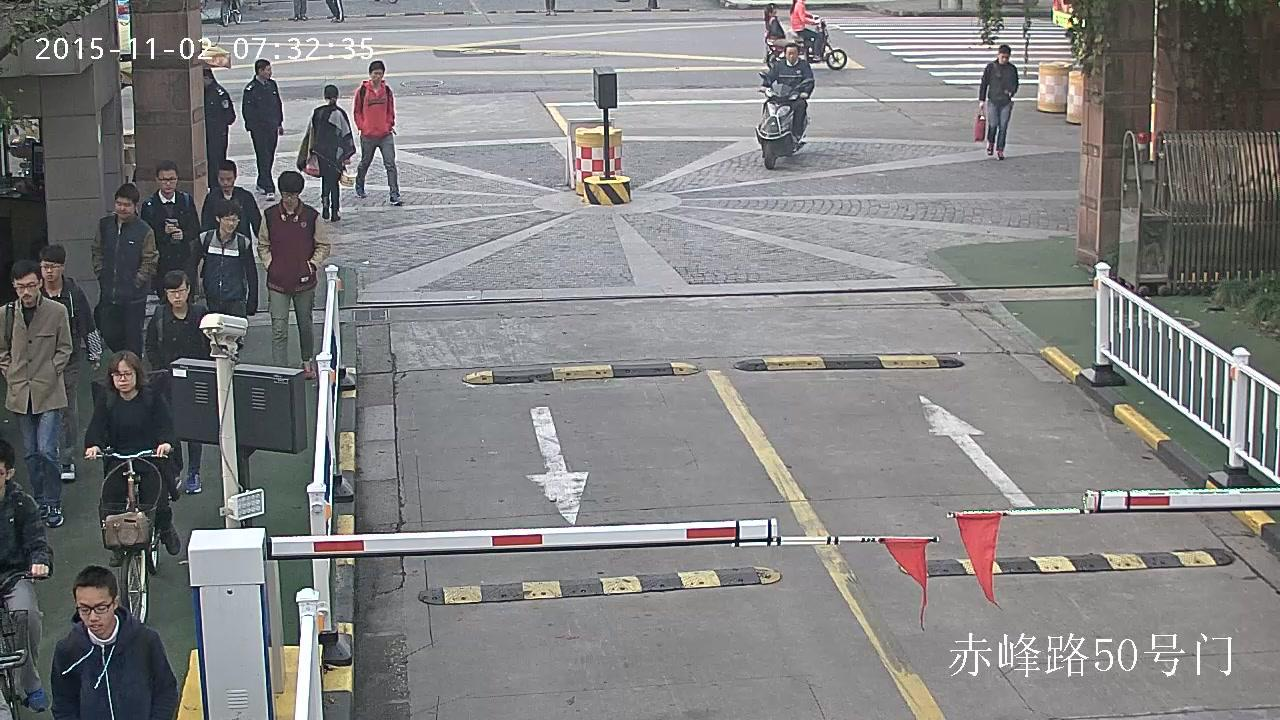face: (74, 584, 114, 634), (113, 360, 137, 391), (15, 272, 39, 302), (166, 281, 187, 307), (41, 260, 61, 282), (113, 196, 133, 218), (159, 169, 175, 191), (219, 213, 237, 232), (218, 169, 235, 189), (282, 189, 299, 205), (785, 46, 798, 62), (369, 69, 383, 81), (261, 64, 272, 79), (998, 52, 1010, 64), (0, 463, 5, 490), (771, 8, 777, 15)
